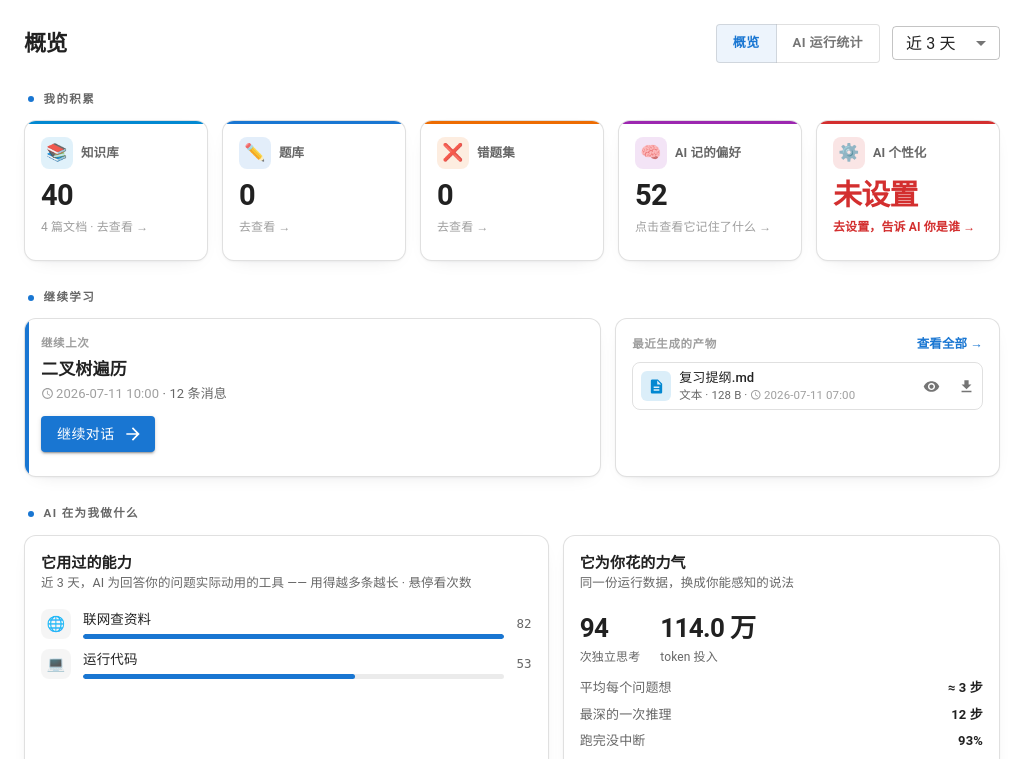
Test: HomeView › 提供「概览」「AI 运行统计」切换按钮，点后者切到运维指标
Check: the text "二叉树遍历" is shown, box [41,359,127,379]
Check: the text "P95 延迟" is not shown
Click the button "AI 运行统计".
click(828, 43)  # box [776,24,880,63]
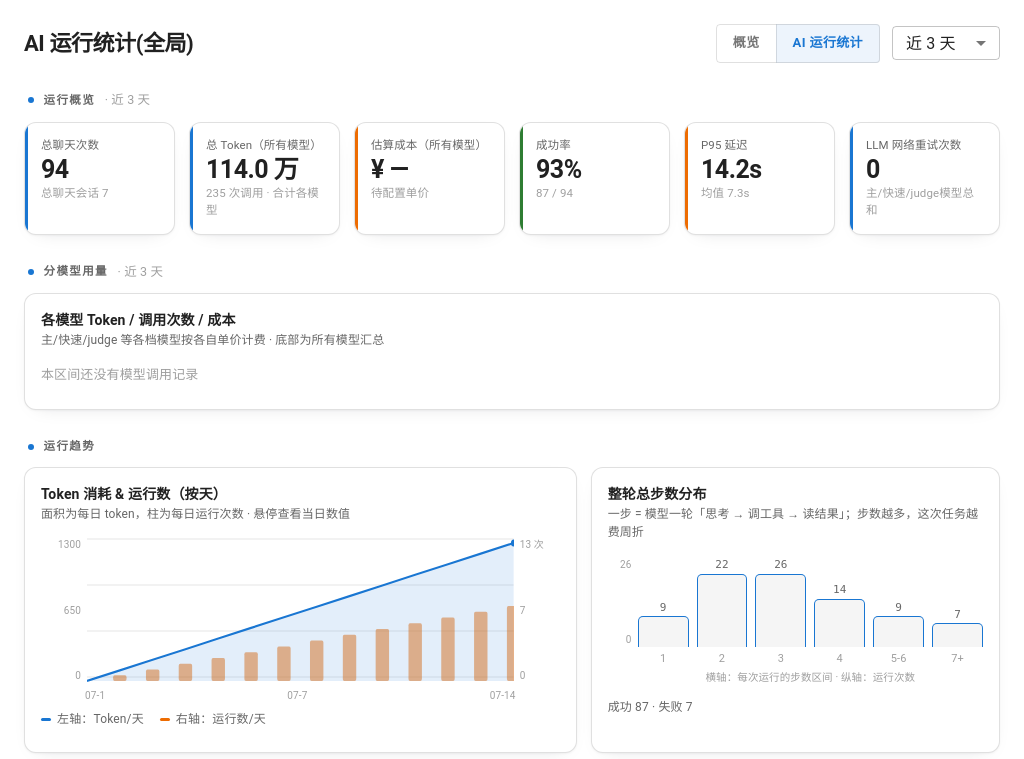
Check: the text "P95 延迟" is shown, box [701,138,748,152]
Check: the text "AI 运行统计(全局)" is shown, box [24,27,193,60]
